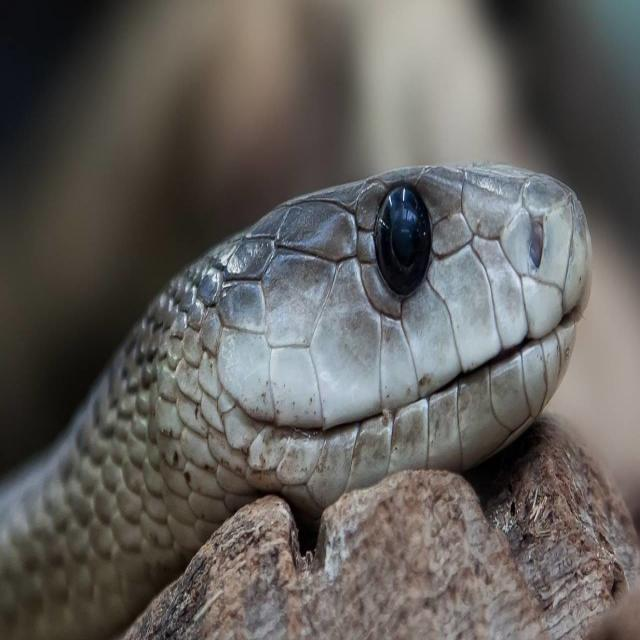Snake: (0, 144, 614, 615)
